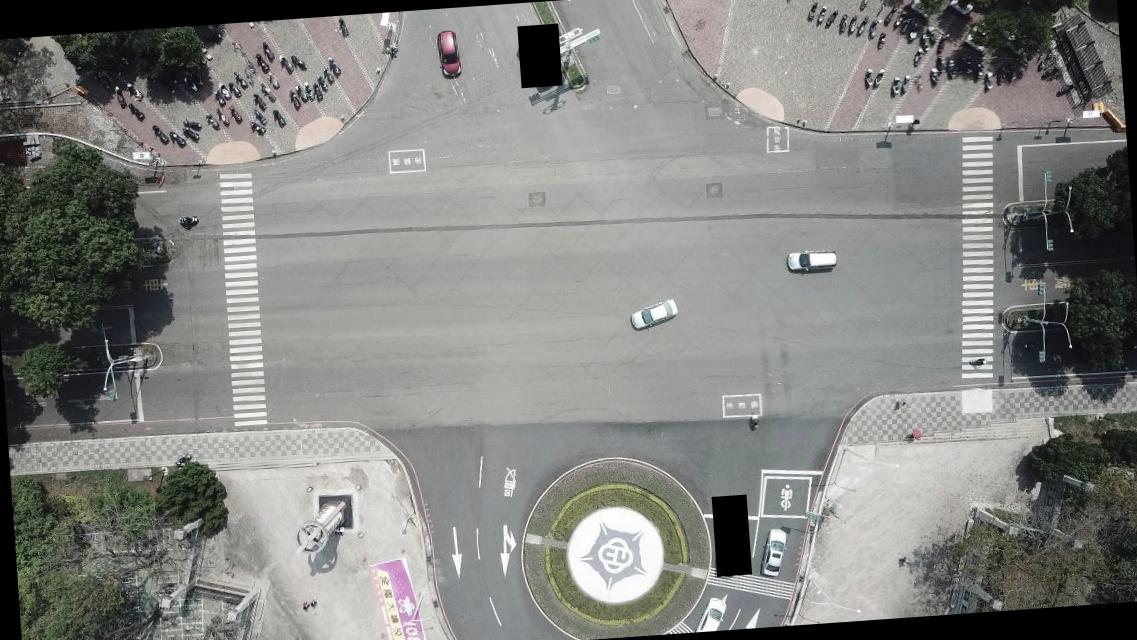vehicle: (628, 298, 683, 334), (758, 525, 790, 579), (784, 246, 838, 273), (695, 594, 730, 630), (437, 29, 462, 79)
